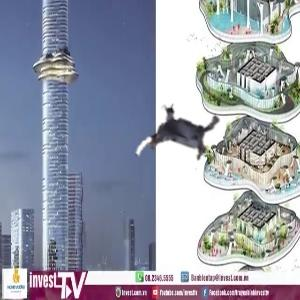drone: (136, 91, 227, 182)
